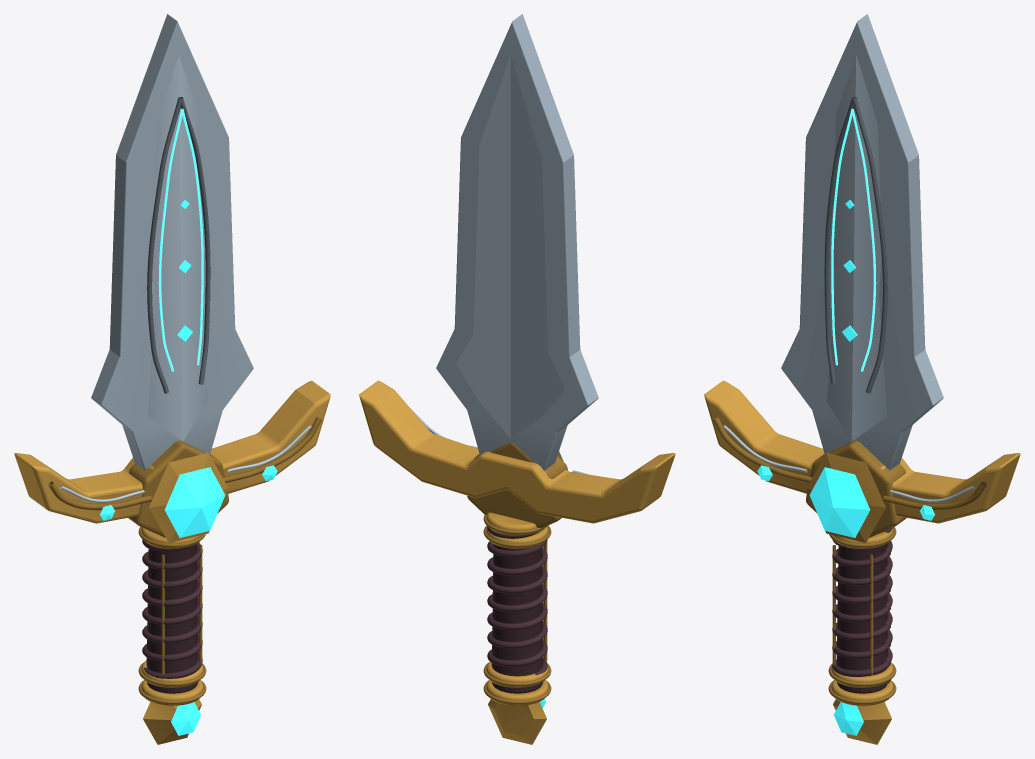
3 renders of one model, left to right at view 1: azimuth 30°, elevation 25°; view 2: azimuth 150°, elevation 25°; view 3: azimuth 330°, elevation 25°, orthographic.
Visible parts, largest first — view 1: Aço da lâmina · lamina, Aço da lâmina · lamina__fio, Guarda e filigranas · guarda, Guarda e filigranas · guarda__rebaixo, Cristais e inscrições · joia, Couro do punho · cabo, Couro do punho · cabo__trama, Aço da lâmina · lamina__sulcos, Cristais e inscrições · joia__runas; view 2: Aço da lâmina · lamina__fio, Aço da lâmina · lamina, Guarda e filigranas · guarda, Couro do punho · cabo, Couro do punho · cabo__trama, Guarda e filigranas · guarda__rebaixo; view 3: Aço da lâmina · lamina, Aço da lâmina · lamina__fio, Guarda e filigranas · guarda, Guarda e filigranas · guarda__rebaixo, Cristais e inscrições · joia, Couro do punho · cabo, Couro do punho · cabo__trama, Aço da lâmina · lamina__sulcos, Cristais e inscrições · joia__runas.
Part boxes in pixels (x1,y1,x2,y2): Aço da lâmina · lamina: (91,14,253,470); Aço da lâmina · lamina__fio: (60,55,311,502); Guarda e filigranas · guarda: (14,380,330,744); Guarda e filigranas · guarda__rebaixo: (48,417,321,704); Cristais e inscrições · joia: (100,200,277,735); Couro do punho · cabo: (146,544,198,693); Couro do punho · cabo__trama: (142,539,202,678); Aço da lâmina · lamina__sulcos: (147,97,210,393); Cristais e inscrições · joia__runas: (158,108,203,371); Aço da lâmina · lamina__fio: (410,55,588,474); Aço da lâmina · lamina: (436,14,598,470); Guarda e filigranas · guarda: (359,380,675,744); Couro do punho · cabo: (491,544,543,693); Couro do punho · cabo__trama: (487,526,547,675); Guarda e filigranas · guarda__rebaixo: (467,442,567,704); Aço da lâmina · lamina: (781,14,943,470); Aço da lâmina · lamina__fio: (723,55,974,502); Guarda e filigranas · guarda: (704,380,1020,744); Guarda e filigranas · guarda__rebaixo: (713,417,986,704); Cristais e inscrições · joia: (757,200,934,735); Couro do punho · cabo: (836,544,887,693); Couro do punho · cabo__trama: (832,527,892,684); Aço da lâmina · lamina__sulcos: (824,97,887,393); Cristais e inscrições · joia__runas: (831,108,876,371).
Size of the model in its own units: 1.91 by 4.43 by 0.513.
